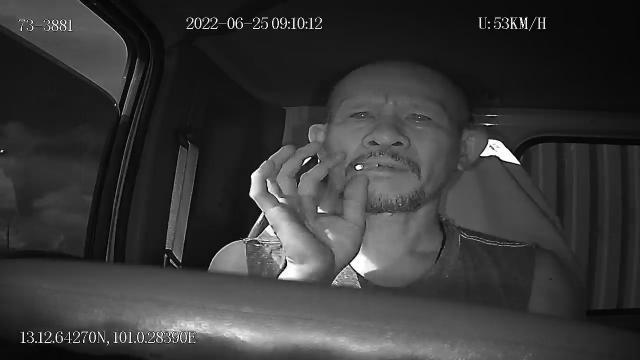SafeDriving: (398, 103, 440, 131), (342, 102, 379, 126)
Smoking: (356, 162, 376, 170)
